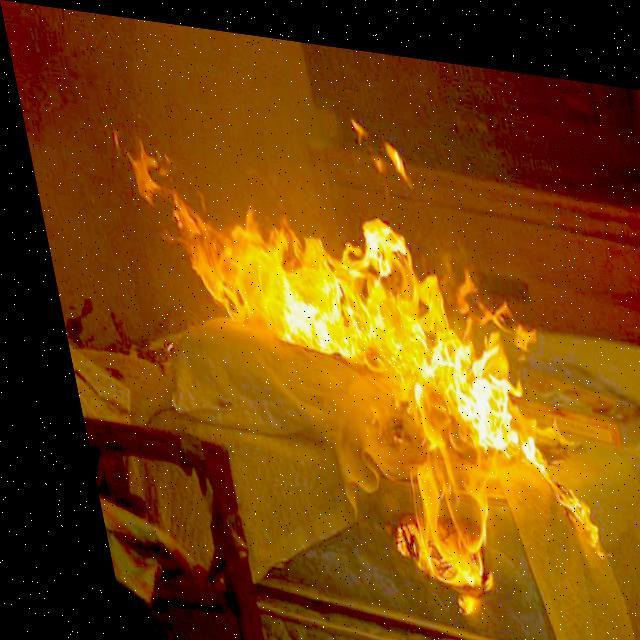Fire: (106, 96, 610, 605)
